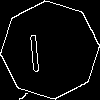I: (25, 25, 43, 73)
